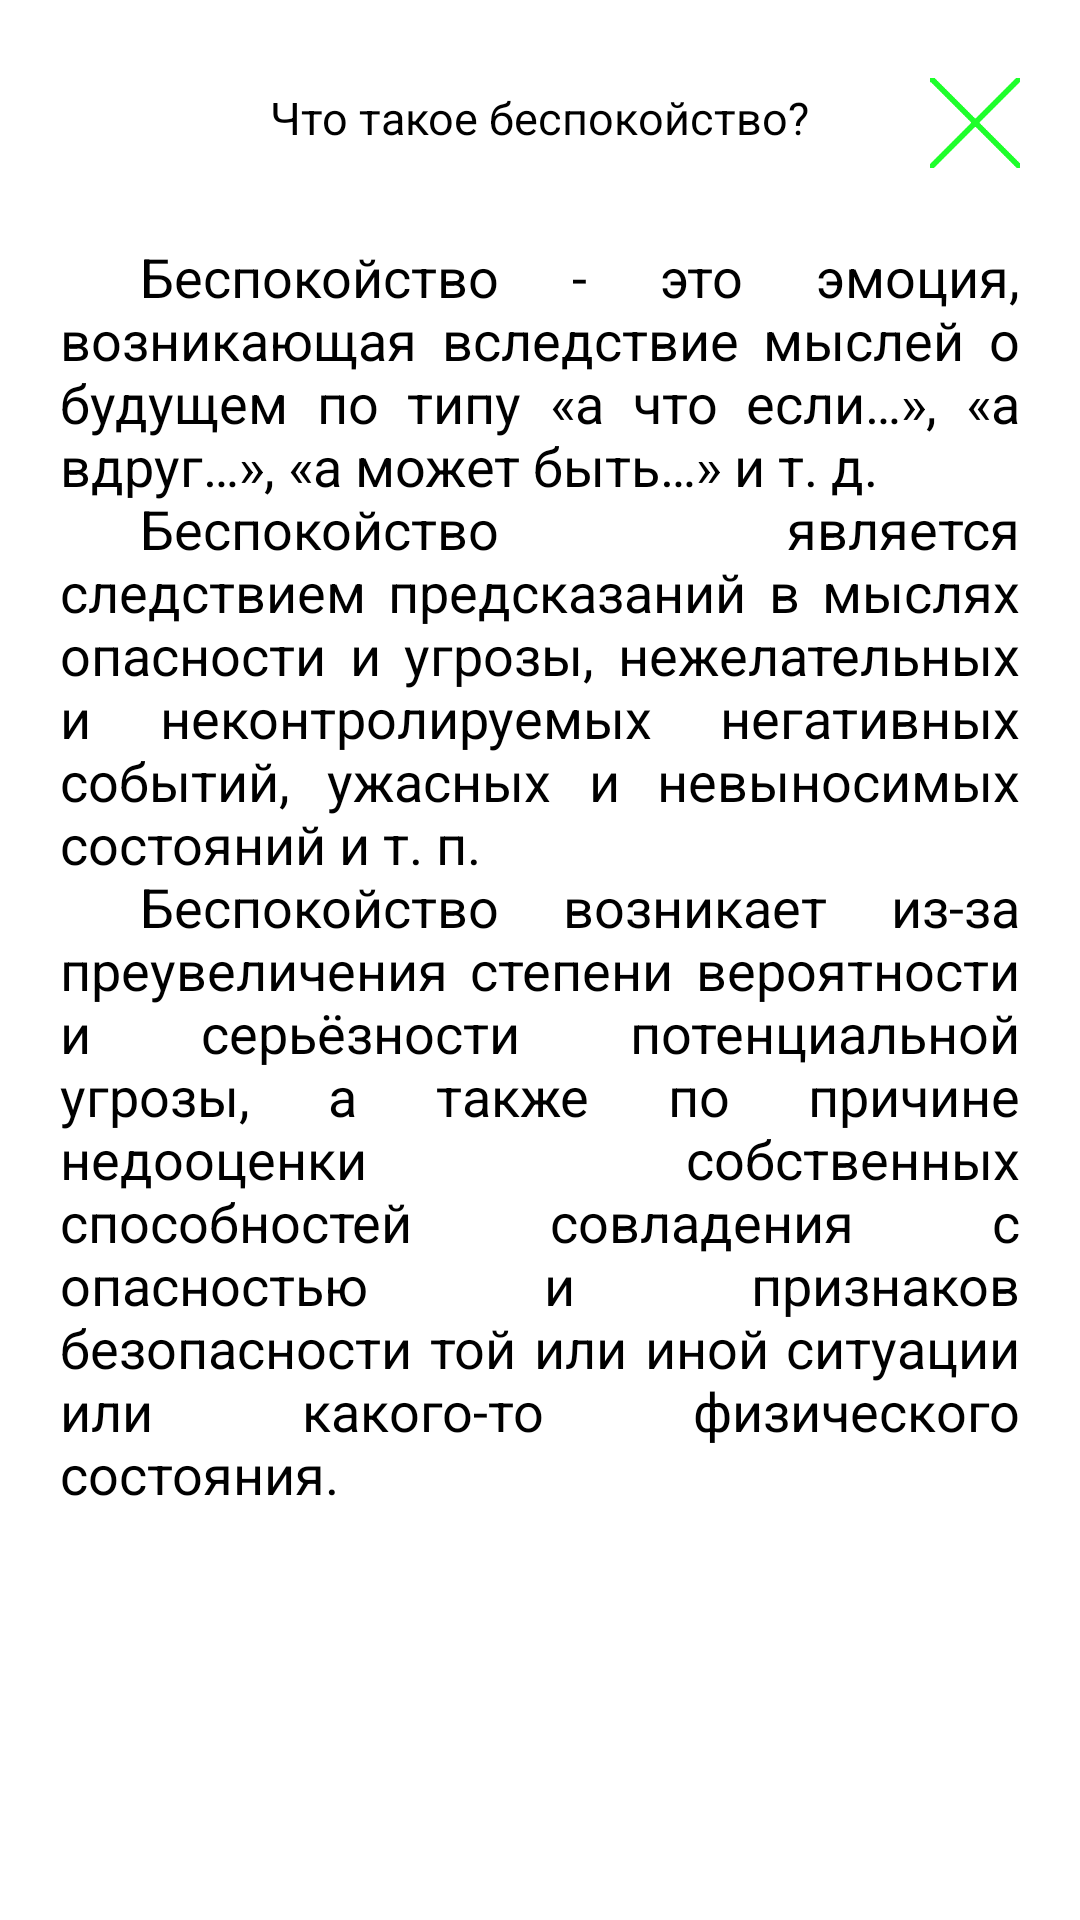

Where icons sit on this 1080 x 1920 app screen, as (x1, y1, x2, y2):
close: (930, 78, 1020, 168)
